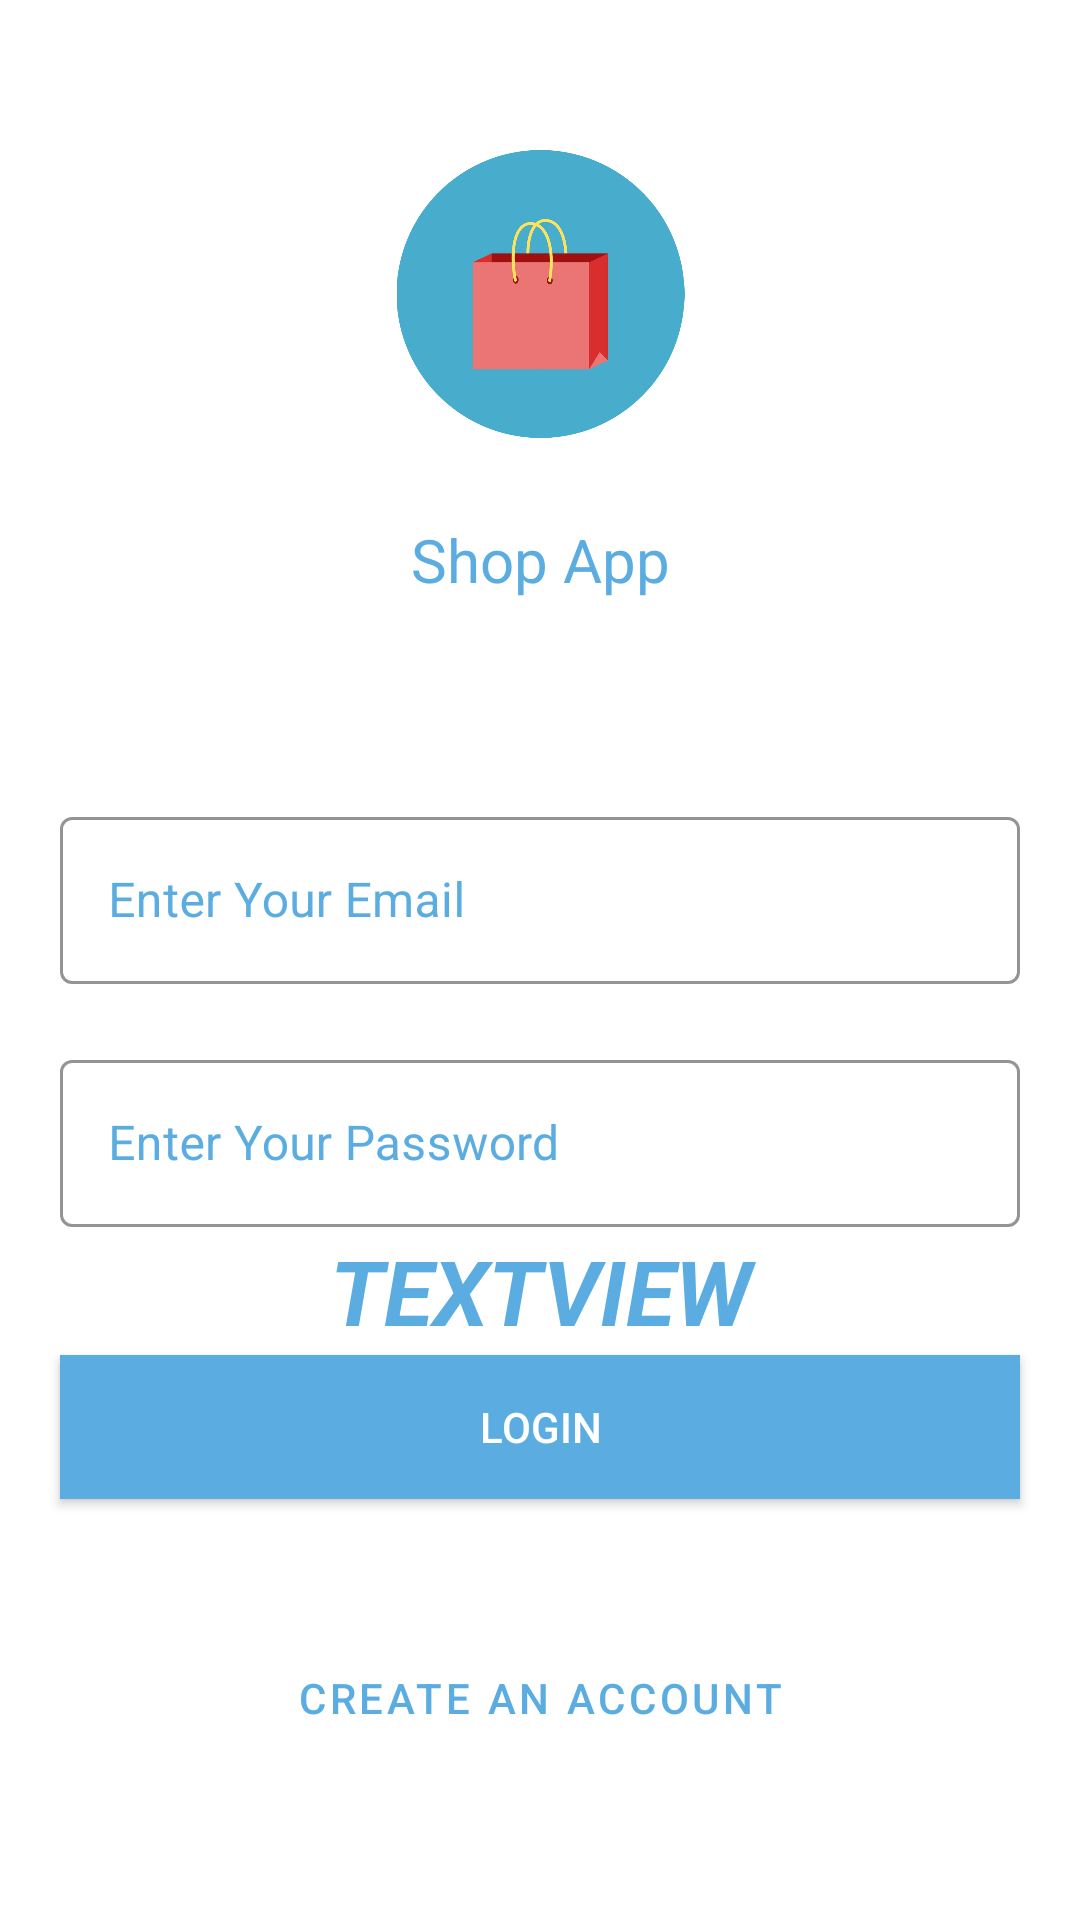

Icons on this 1080 x 1920 Android screen, each with the point to tap as [x,y]:
bag: [541,294]
